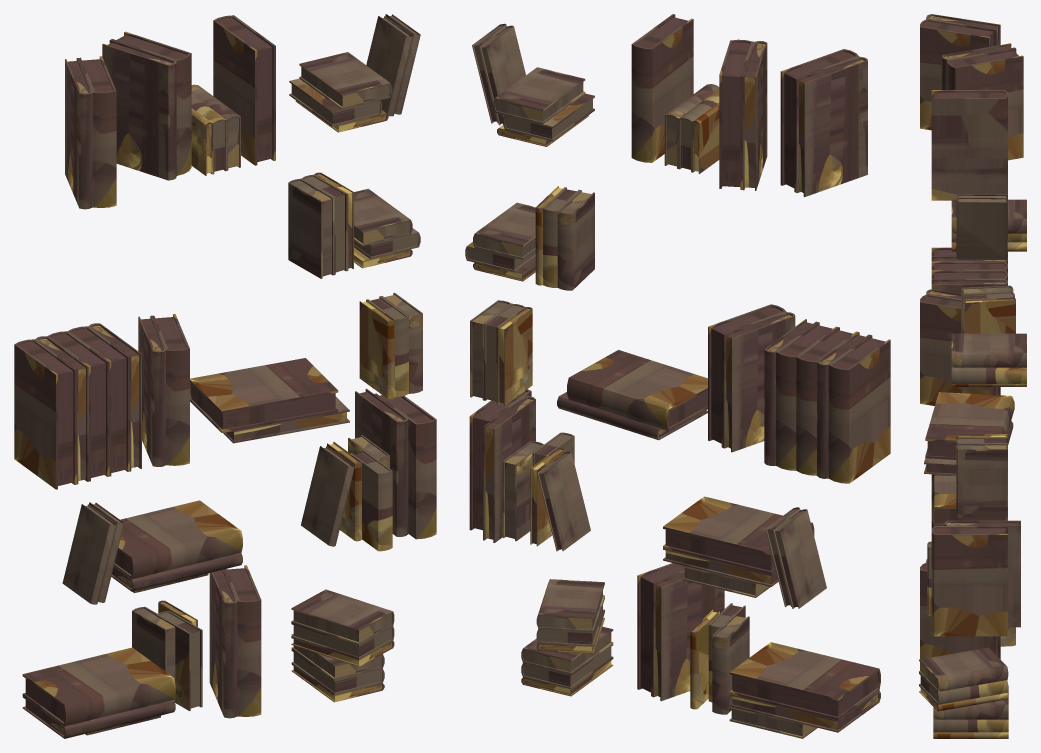
File: FBX_Libros2.fbx
The picture shows the model from 3 angles, left to right: view 1: azimuth 30°, elevation 25°; view 2: azimuth 150°, elevation 25°; view 3: azimuth 270°, elevation 25°; orthographic projection. The views are drawn at different scales.
Visible parts, largest first — view 1: polySurface102; view 2: polySurface102; view 3: polySurface102.
Boxes of the visible parts, x1=… form: polySurface102: x1=14, y1=14, x2=436, y2=738; polySurface102: x1=465, y1=14, x2=890, y2=738; polySurface102: x1=919, y1=14, x2=1026, y2=738.
Bounding box in the file's own units: 95.34 × 160 × 26.38.
